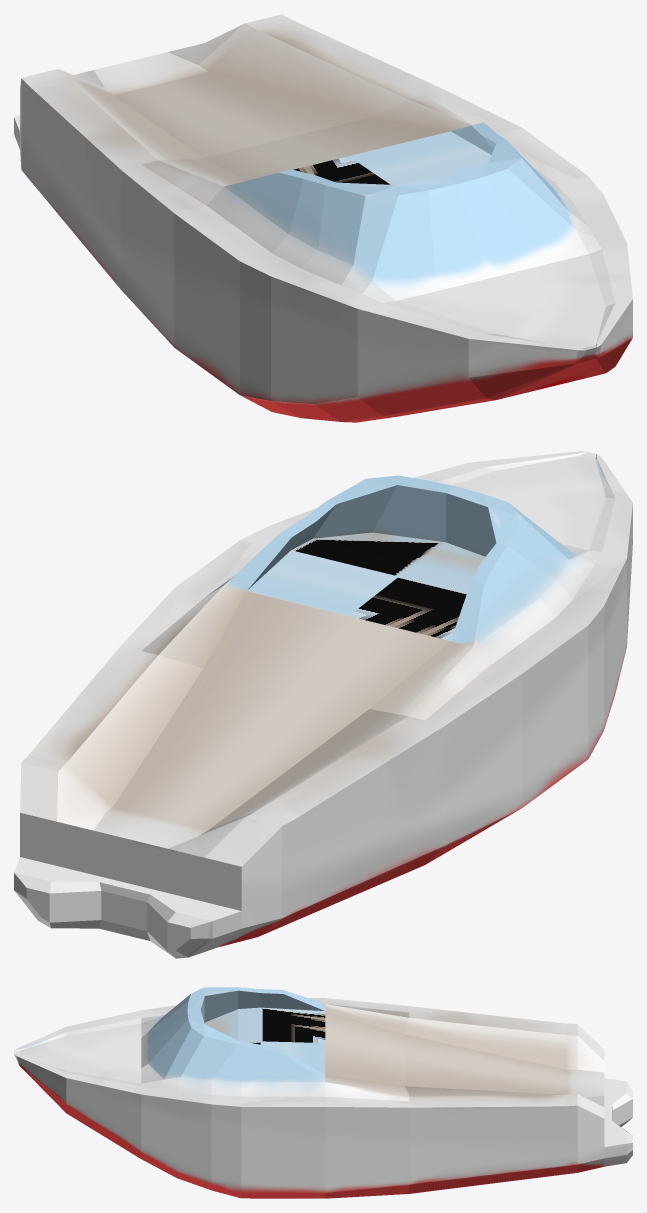
Rendered from Boatfill.fbx.
3 renders of one model, top to bottom at view 1: azimuth 30°, elevation 25°; view 2: azimuth 150°, elevation 25°; view 3: azimuth 270°, elevation 25°, orthographic. The views are drawn at different scales.
Parts seen in each view (by area): view 1: Cube.006; view 2: Cube.006; view 3: Cube.006.
Part boxes in pixels (x1,y1,x2,y2): Cube.006: [14, 14, 632, 422]; Cube.006: [14, 451, 632, 958]; Cube.006: [14, 987, 632, 1198].
Size of the model in its own units: 307 by 194 by 738.
